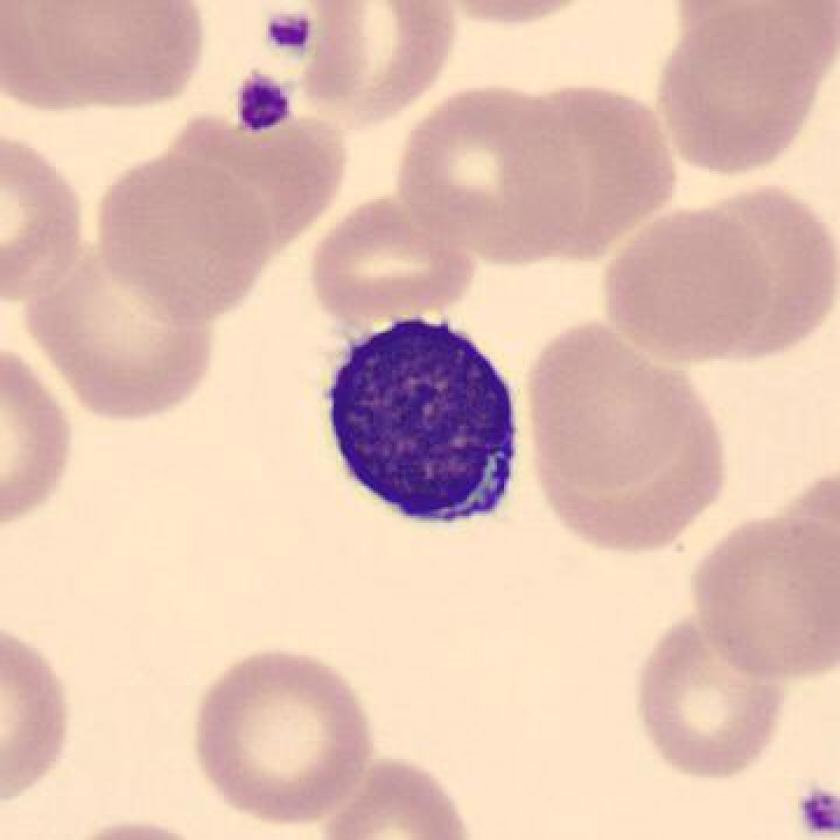lymphocyte: (311, 307, 533, 540)
